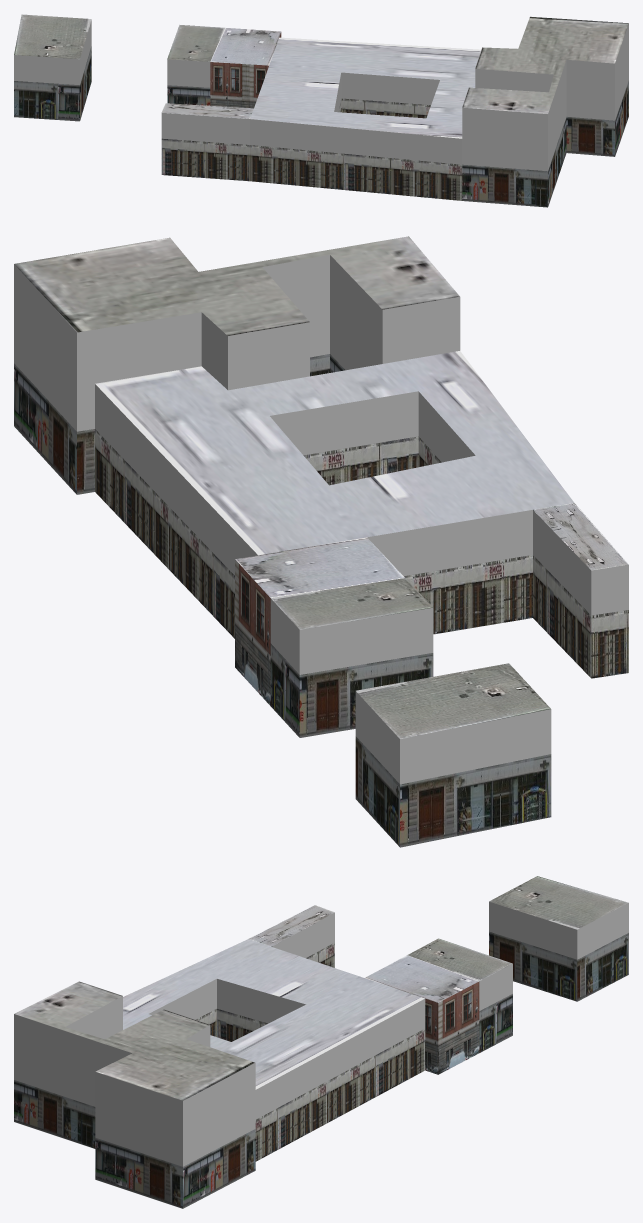
File: OnlyComWithTexture_0.fbx
The picture shows the model from 3 angles, top to bottom: view 1: azimuth 30°, elevation 25°; view 2: azimuth 150°, elevation 25°; view 3: azimuth 270°, elevation 25°; orthographic projection. The views are drawn at different scales.
Parts seen in each view (by area): view 1: CityEngineMaterial_9, CityEngineMaterial_11, CityEngineMaterial_5_1, CityEngineMaterial_6_1, CityEngineMaterial_10, CityEngineMaterial_1_2, CityEngineMaterial_5, CityEngineMaterial_1, CityEngineMaterial, CityEngineMaterial_6, CityEngineMaterial_8, CityEngineMaterial_2 (+5 smaller); view 2: CityEngineMaterial_9, CityEngineMaterial_11, CityEngineMaterial_10, CityEngineMaterial_6_1, CityEngineMaterial_5_1, CityEngineMaterial_1, CityEngineMaterial_2, CityEngineMaterial, CityEngineMaterial_2_1, CityEngineMaterial_1_1, CityEngineMaterial_7, CityEngineMaterial_5 (+5 smaller); view 3: CityEngineMaterial_11, CityEngineMaterial_9, CityEngineMaterial_10, CityEngineMaterial_1_2, CityEngineMaterial_6_1, CityEngineMaterial_5_1, CityEngineMaterial_1, CityEngineMaterial_2, CityEngineMaterial_8, CityEngineMaterial, CityEngineMaterial_7, CityEngineMaterial_3 (+4 smaller).
Boxes of the visible parts, x1,y1,x2,y2 form: CityEngineMaterial_9: (250, 37, 481, 138); CityEngineMaterial_11: (462, 24, 628, 171); CityEngineMaterial_5_1: (250, 98, 462, 200); CityEngineMaterial_6_1: (250, 72, 462, 164); CityEngineMaterial_10: (462, 16, 628, 114); CityEngineMaterial_1_2: (462, 81, 628, 207); CityEngineMaterial_5: (161, 138, 249, 181); CityEngineMaterial_1: (14, 46, 91, 121); CityEngineMaterial: (14, 14, 91, 59); CityEngineMaterial_6: (161, 113, 249, 144); CityEngineMaterial_8: (210, 32, 281, 108); CityEngineMaterial_2: (14, 20, 91, 84); CityEngineMaterial_9: (95, 351, 574, 555); CityEngineMaterial_11: (14, 254, 460, 431); CityEngineMaterial_10: (14, 236, 459, 336); CityEngineMaterial_6_1: (95, 384, 532, 576); CityEngineMaterial_5_1: (95, 429, 532, 638); CityEngineMaterial_1: (355, 736, 551, 847); CityEngineMaterial_2: (355, 691, 551, 784); CityEngineMaterial: (356, 663, 550, 739); CityEngineMaterial_2_1: (270, 598, 433, 674); CityEngineMaterial_1_1: (270, 643, 433, 737); CityEngineMaterial_7: (235, 537, 404, 597); CityEngineMaterial_5: (533, 555, 628, 678); CityEngineMaterial_11: (14, 996, 255, 1166); CityEngineMaterial_9: (123, 939, 424, 1089); CityEngineMaterial_10: (14, 981, 255, 1100); CityEngineMaterial_1_2: (14, 1080, 255, 1208); CityEngineMaterial_6_1: (149, 979, 425, 1119); CityEngineMaterial_5_1: (195, 1009, 425, 1161); CityEngineMaterial_1: (489, 931, 628, 1001); CityEngineMaterial_2: (489, 901, 628, 959); CityEngineMaterial_8: (425, 981, 479, 1074); CityEngineMaterial: (489, 876, 628, 929); CityEngineMaterial_7: (365, 955, 478, 1002); CityEngineMaterial_3: (407, 938, 512, 980).
Size of the model in its own units: 46.62 by 9 by 46.45.
